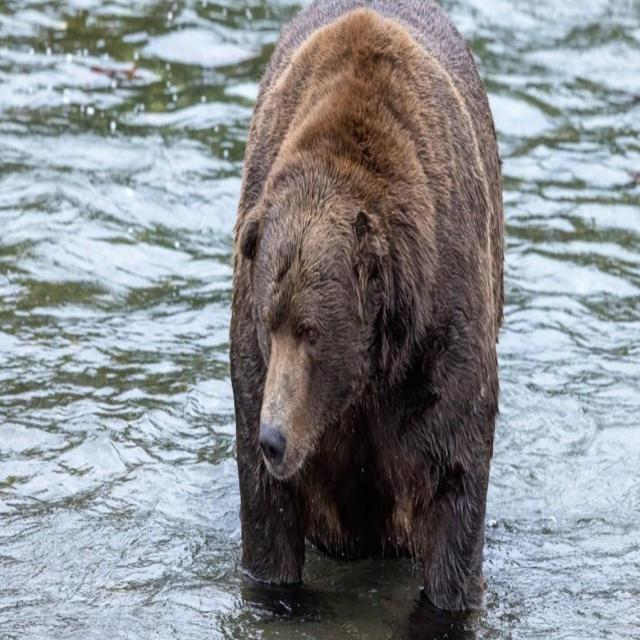Bear: (228, 0, 506, 640)
